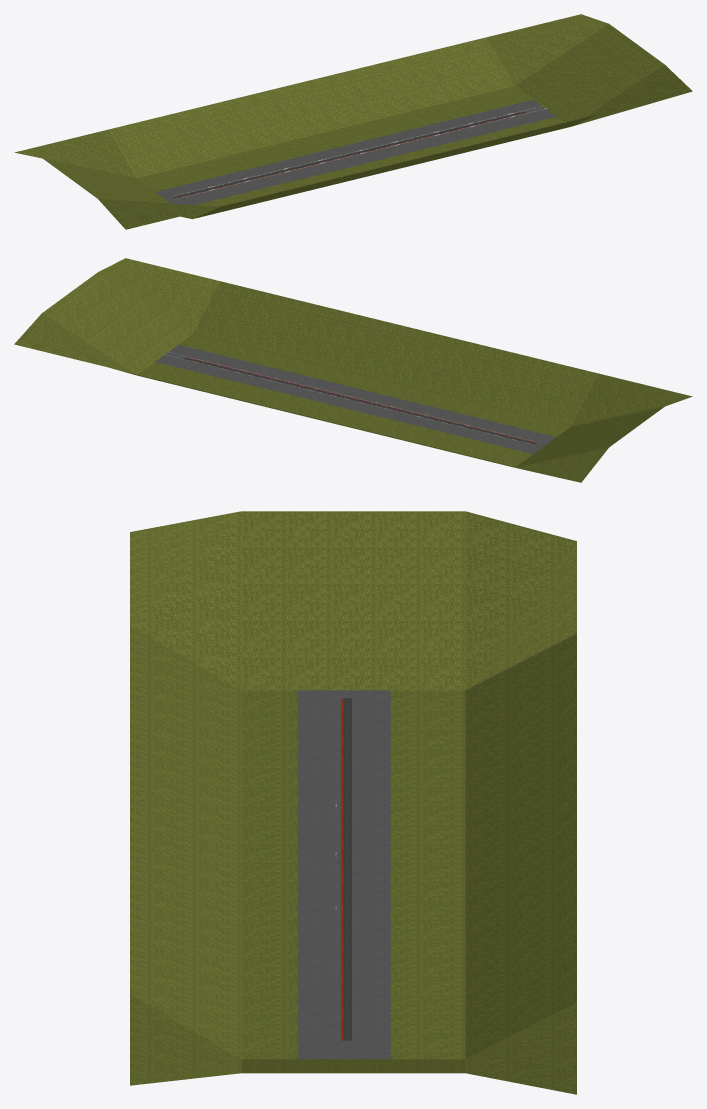
Rendered from track lurusan.fbx.
3 renders of one model, top to bottom at view 1: azimuth 30°, elevation 25°; view 2: azimuth 150°, elevation 25°; view 3: azimuth 270°, elevation 25°, orthographic. The views are drawn at different scales.
Parts seen in each view (by area): view 1: Plane.031, jalur balap; view 2: Plane.031, jalur balap, Plane.033; view 3: Plane.031, jalur balap.
Part boxes in pixels (x1,y1,x2,y2): Plane.031: (14,14,692,229); jalur balap: (174,111,525,198); Plane.031: (14,258,692,482); jalur balap: (184,357,536,444); Plane.033: (186,357,535,442); Plane.031: (130,511,576,1094); jalur balap: (343,698,351,1040).
Bounding box in the file's own units: 29016 × 2121 × 9899.
